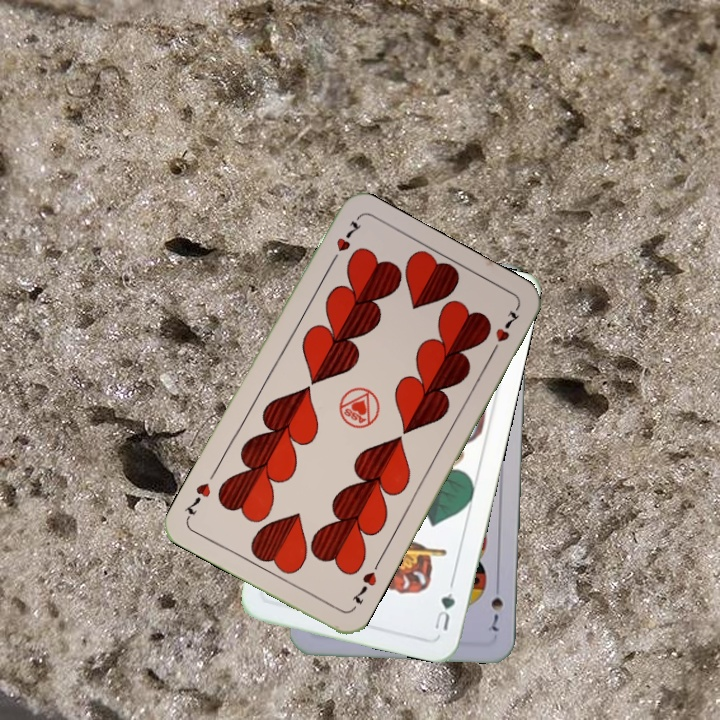GU: (429, 579, 458, 633)
H7: (325, 214, 364, 269), (347, 567, 380, 607)
S7: (486, 578, 506, 634)
